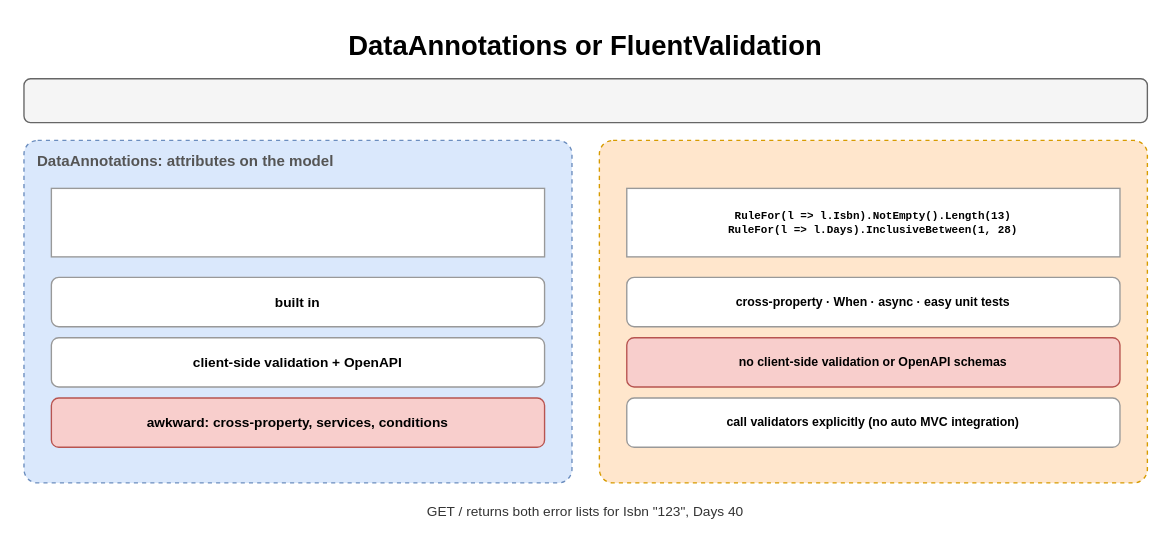
Some shapes in this 1171 by 549 pixel diagram are drawn without their labels. The box of each missing label's shape, as (x1, y1, x2, y2) in pixels:
[Required, StringLength(13, MinimumLength = 13)] Isbn [Range(1, 28)] Days: (50, 187, 545, 257)
FluentValidation: separate validator class: (598, 139, 1147, 483)
Same rules, two styles: (23, 77, 1147, 123)
